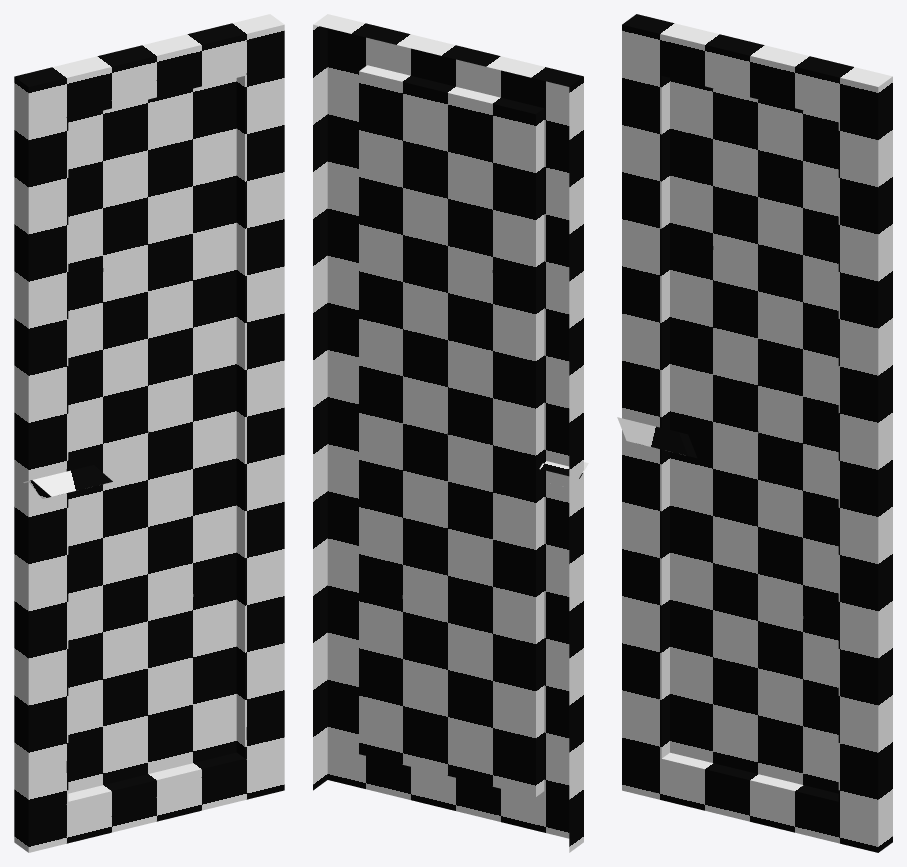
Rendered from Door.fbx.
The picture shows the model from 3 angles, left to right: view 1: azimuth 30°, elevation 25°; view 2: azimuth 150°, elevation 25°; view 3: azimuth 330°, elevation 25°; orthographic projection.
Visible parts, largest first — view 1: Model; view 2: Model; view 3: Model.
Part boxes in pixels (x1,y1,x2,y2): Model: (14, 14, 284, 852); Model: (313, 14, 588, 852); Model: (617, 14, 892, 852).
Bounding box in the file's own units: 0.7134 × 2.03 × 0.1145.
